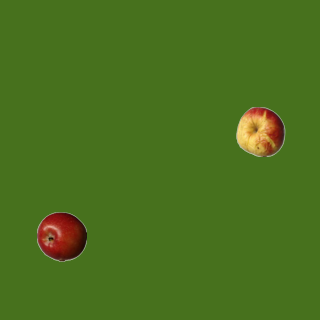Apple Braeburn: (36, 211, 86, 261)
Apple Red Yellow 1: (235, 106, 285, 156)
